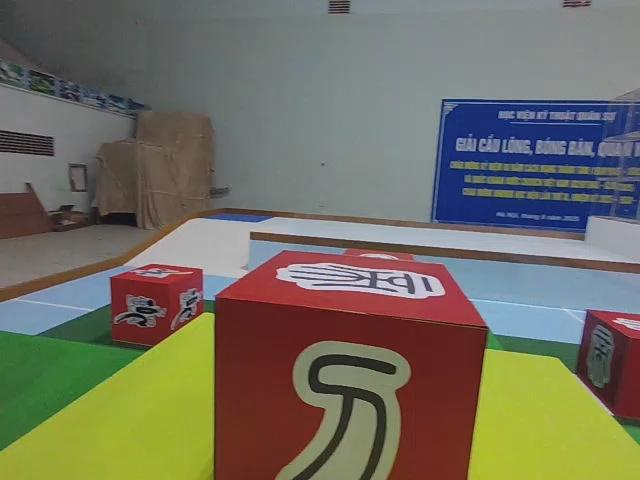R1: (107, 261, 205, 347)
R2 Fake: (211, 248, 491, 480), (574, 306, 640, 421)
